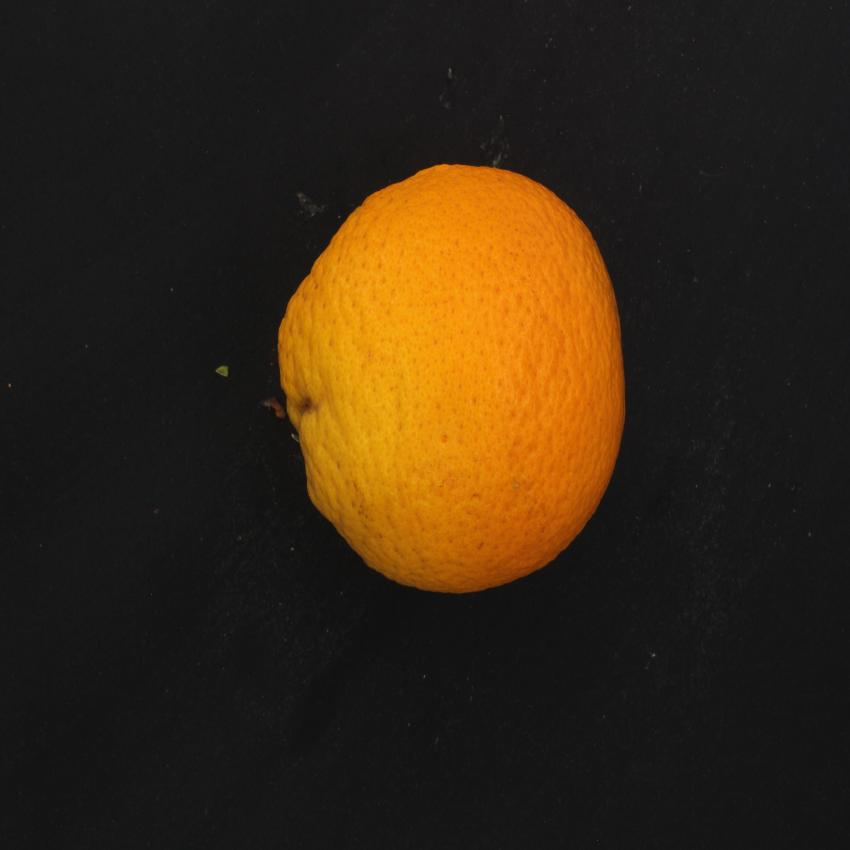Buen estado: (267, 152, 632, 612)
